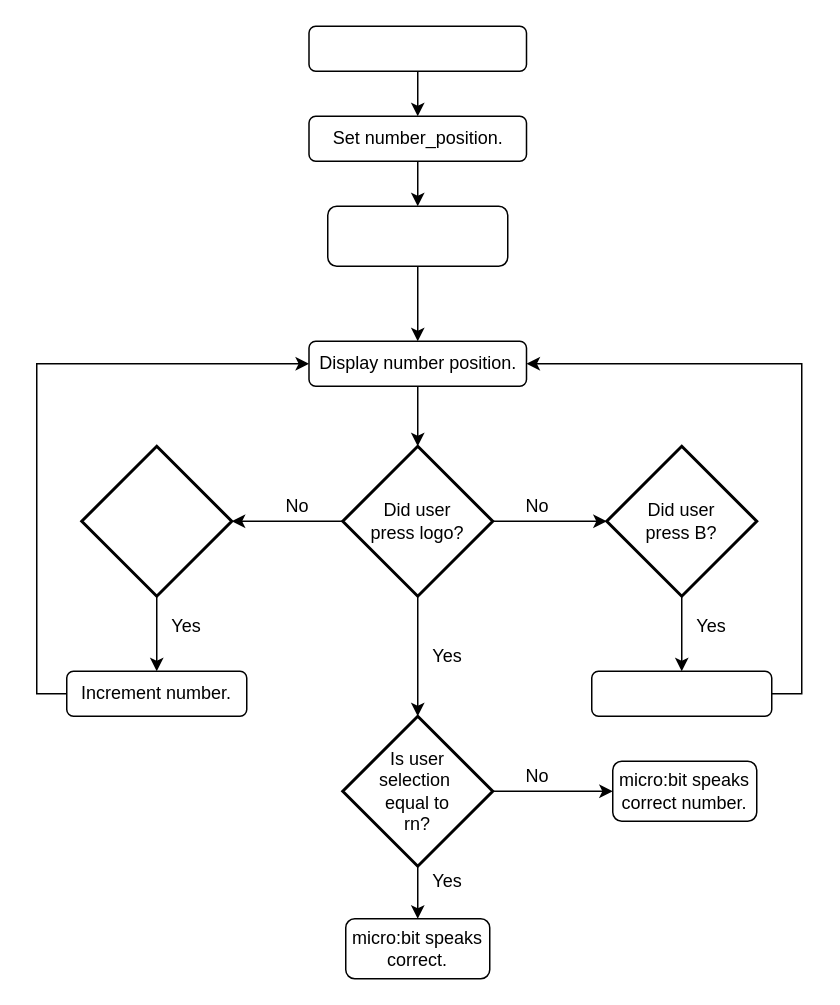
This 840x1005 diagram has some shape labels left out. The shapes that lost their labels are listed below. From the top down, each one's box as (x1, y1, x2, y2) in pixels, then its label:
(308, 25, 526, 71): Get random number.
(326, 205, 508, 266): micro:bit speaks game instructions.
(80, 444, 232, 597): Did user press A?
(590, 670, 772, 716): Decrement number.
